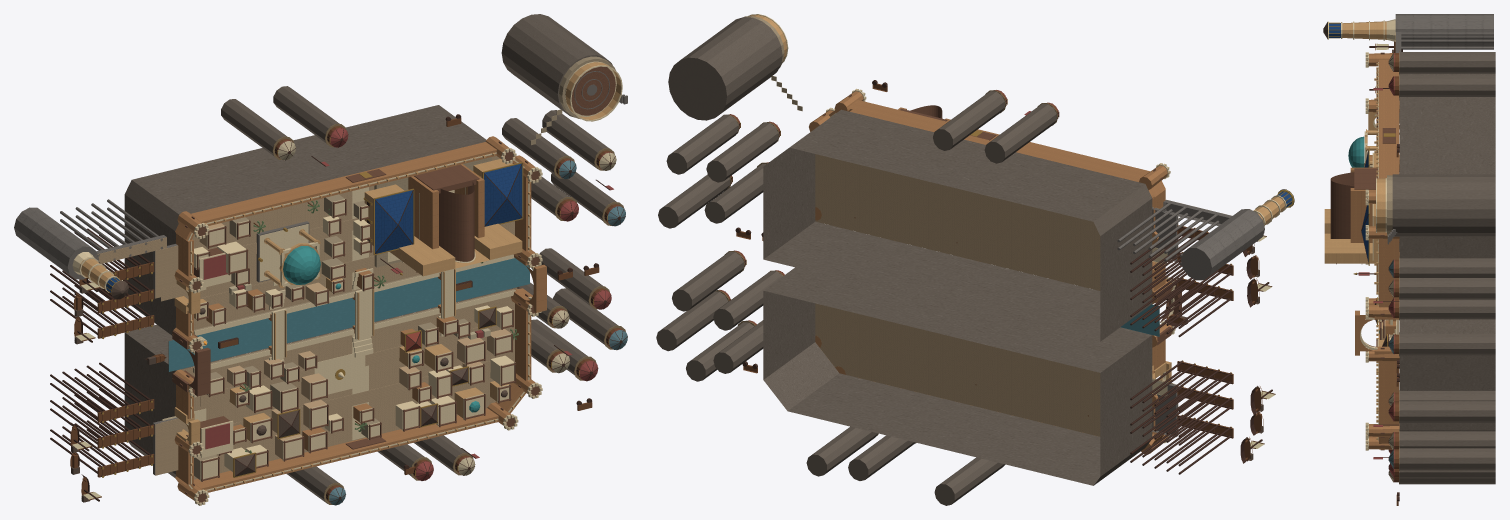
The model's file is Khaza_v1_Persian_Nomad_Harbor.glb.
The picture shows the model from 3 angles, left to right: view 1: azimuth 30°, elevation 25°; view 2: azimuth 150°, elevation 25°; view 3: azimuth 270°, elevation 25°; orthographic projection. The views are drawn at different scales.
Visible parts, largest first — view 1: Khaza_rock, Khaza_travertine, Khaza_paving, Khaza_brick, Khaza_brick_dark, Khaza_brick_sun, Khaza_darkwood, Khaza_water, Khaza_cedar, Khaza_granite, Khaza_sandstone, Khaza_lapis (+9 smaller); view 2: Khaza_rock, Khaza_paving, Khaza_darkwood, Khaza_granite, Khaza_brick, Khaza_cedar, Khaza_travertine, Khaza_brick_dark, Khaza_brick_sun; view 3: Khaza_rock, Khaza_brick, Khaza_brick_sun, Khaza_granite, Khaza_brick_dark, Khaza_travertine, Khaza_cedar, Khaza_darkwood, Khaza_felt_red, Khaza_turquoise, Khaza_lapis, Khaza_sandstone (+3 smaller).
Boxes of the visible parts, bbox=[...] form: Khaza_rock: bbox=[124, 14, 618, 503]; Khaza_travertine: bbox=[72, 61, 622, 505]; Khaza_paving: bbox=[95, 156, 517, 479]; Khaza_brick: bbox=[172, 136, 546, 503]; Khaza_brick_dark: bbox=[172, 66, 615, 502]; Khaza_brick_sun: bbox=[79, 62, 620, 490]; Khaza_darkwood: bbox=[50, 114, 627, 505]; Khaza_water: bbox=[168, 258, 529, 371]; Khaza_cedar: bbox=[70, 118, 627, 502]; Khaza_granite: bbox=[14, 71, 627, 475]; Khaza_sandstone: bbox=[193, 56, 615, 479]; Khaza_lapis: bbox=[106, 163, 522, 292]; Khaza_rock: bbox=[656, 17, 1152, 505]; Khaza_paving: bbox=[815, 154, 1225, 436]; Khaza_darkwood: bbox=[729, 80, 1272, 474]; Khaza_granite: bbox=[1117, 200, 1264, 436]; Khaza_brick: bbox=[809, 91, 1172, 454]; Khaza_cedar: bbox=[720, 83, 1275, 461]; Khaza_travertine: bbox=[748, 14, 1286, 443]; Khaza_brick_dark: bbox=[822, 94, 1181, 442]; Khaza_brick_sun: bbox=[750, 15, 1284, 396]; Khaza_rock: bbox=[1392, 52, 1495, 484]; Khaza_brick: bbox=[1350, 53, 1399, 449]; Khaza_brick_sun: bbox=[1324, 21, 1390, 439]; Khaza_granite: bbox=[1387, 14, 1493, 249]; Khaza_brick_dark: bbox=[1330, 52, 1395, 450]; Khaza_travertine: bbox=[1341, 19, 1396, 450]; Khaza_cedar: bbox=[1375, 41, 1399, 505]; Khaza_darkwood: bbox=[1357, 42, 1402, 501]; Khaza_felt_red: bbox=[1358, 53, 1394, 482]; Khaza_turquoise: bbox=[1348, 136, 1379, 333]; Khaza_lapis: bbox=[1329, 23, 1368, 261]; Khaza_sandstone: bbox=[1386, 175, 1399, 337].
Bounding box in the file's own units: 322 × 215 × 93.3.
26 materials, 26 textured.
